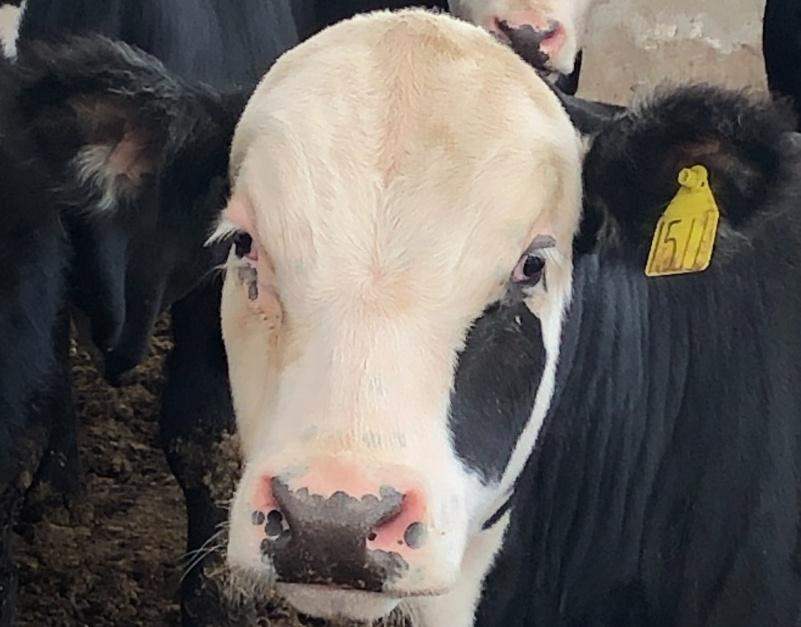muzzles: (217, 448, 472, 627)
